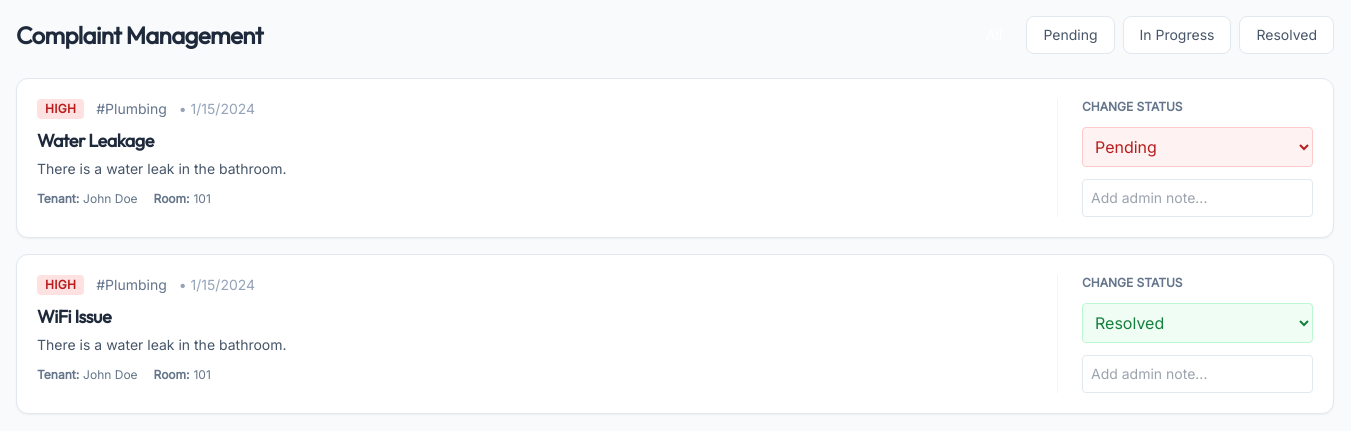
Test: Owner Complaints Component › filters complaints when status filter is clicked
This screenshot has width=1351, height=431.
Check: the heading "Water Leakage" is shown, box [37, 129, 154, 152]
Check: the heading "WiFi Issue" is shown, box [37, 305, 111, 328]
// Filter by "Resolved" — only WiFi Issue should show
Click the button "Resolved".
click(1287, 35)  # box [1240, 16, 1334, 54]
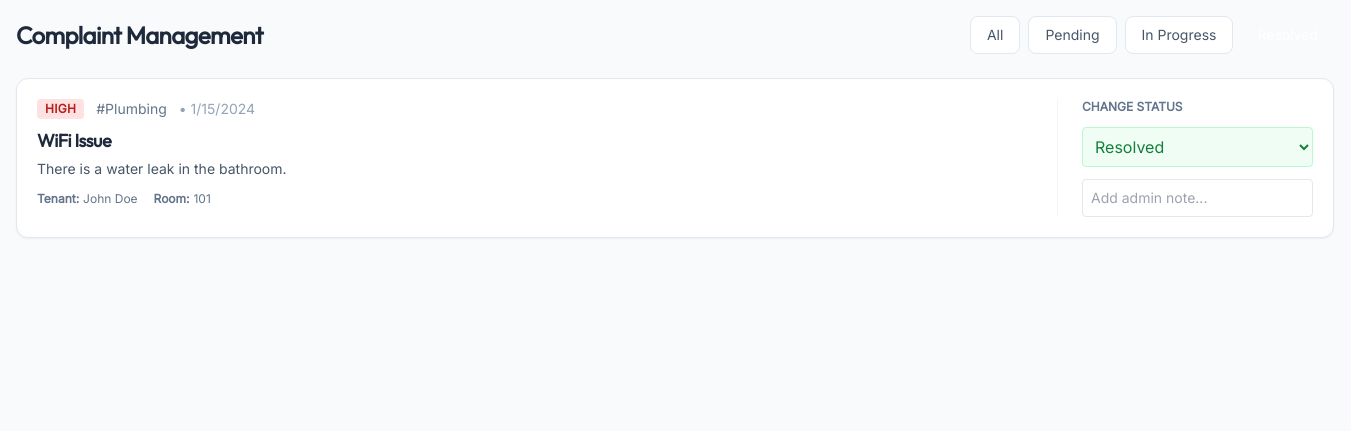
Check: the heading "WiFi Issue" is shown, box [37, 129, 111, 152]
Check: the heading "Water Leakage" is gone
